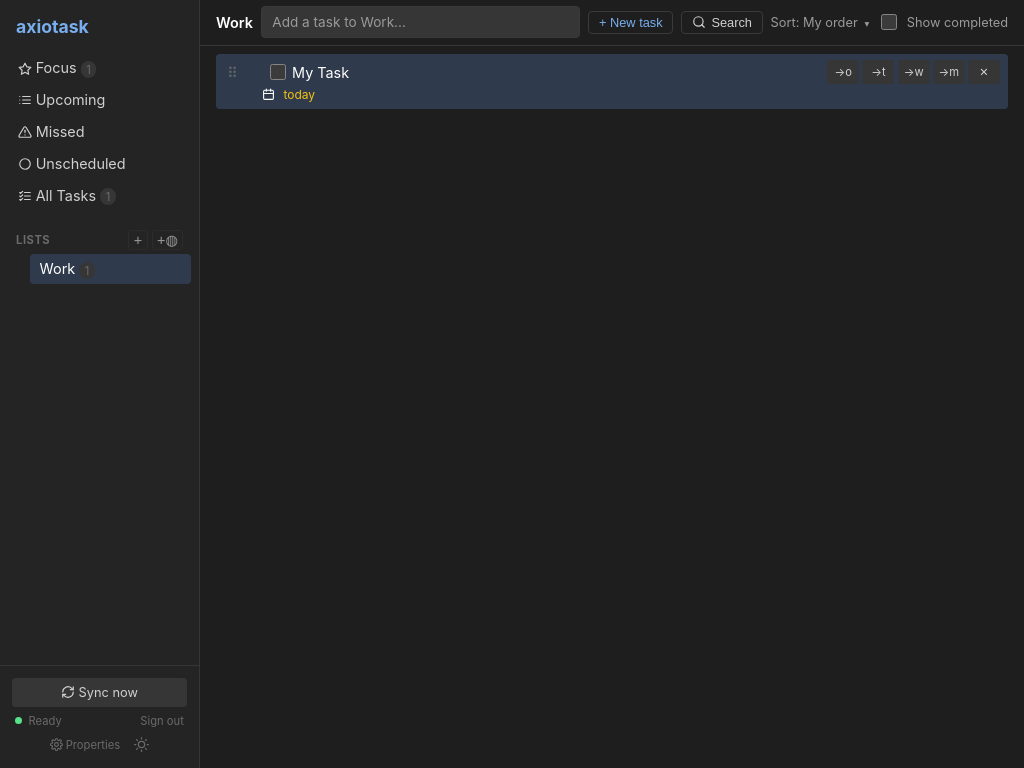
Test: GH#23: Error feedback toast › shows dismiss button that removes error toast on click
expect the text "My Task" is shown: met, box [292, 64, 349, 81]
Press Space
Wait 100 ms
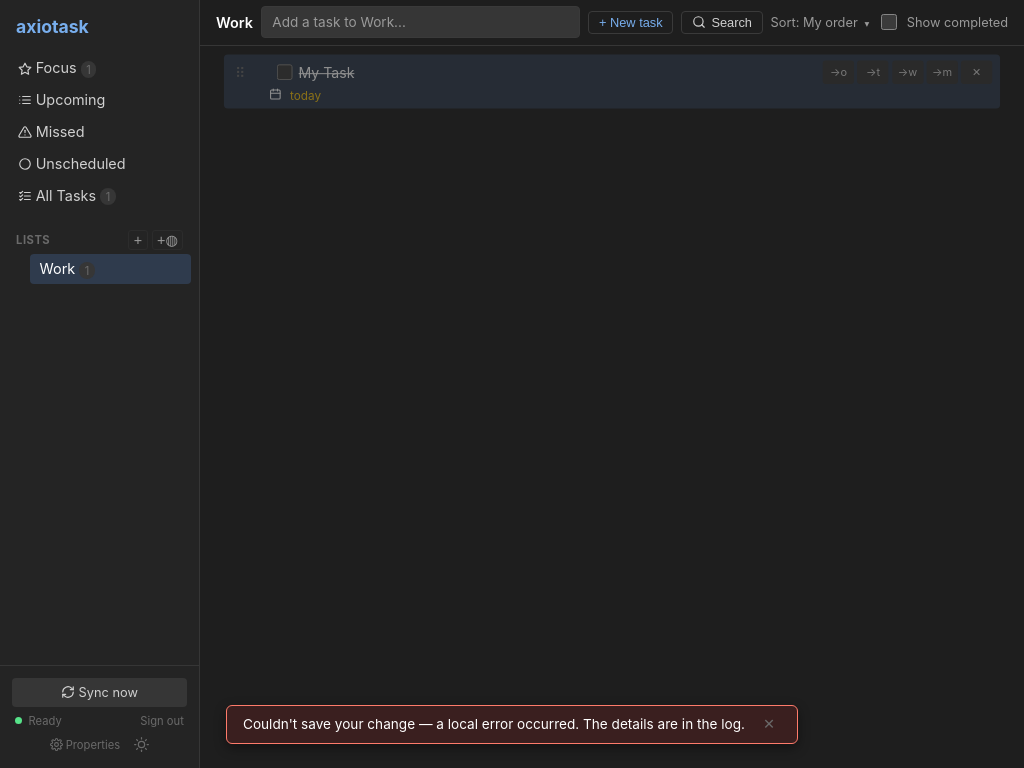
expect the message is shown: met, box [226, 705, 798, 744]
expect the button with class "dismiss-btn" is shown: met
Click the button with class "dismiss-btn". click: [769, 724]
box: [757, 715, 781, 733]
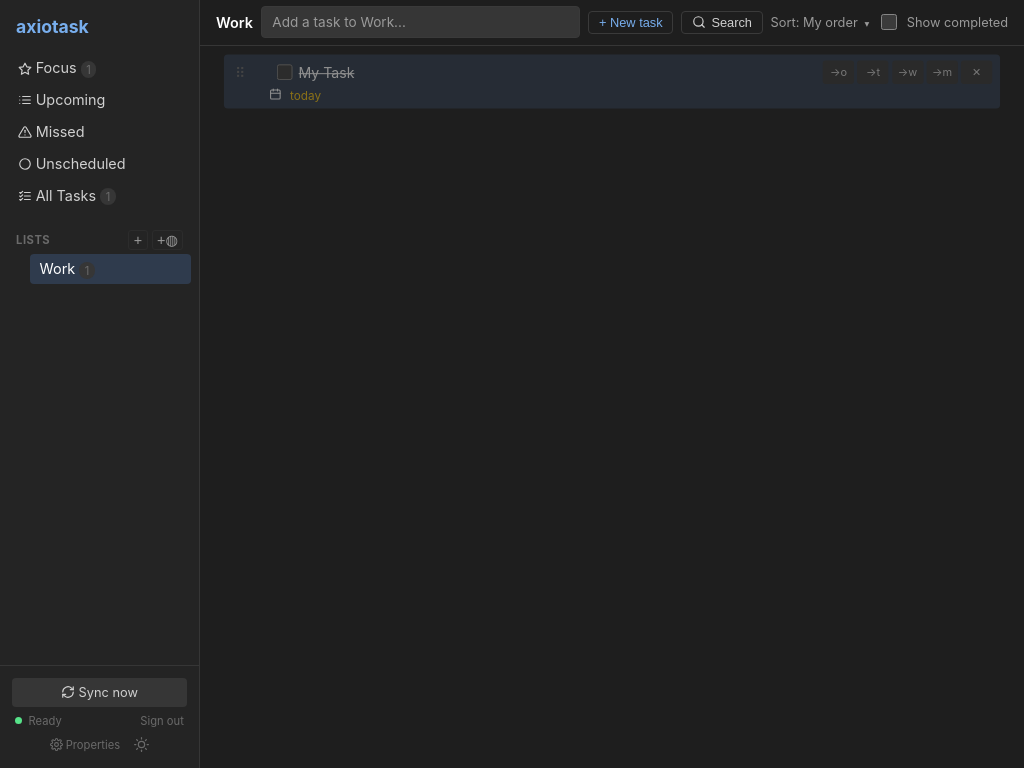
expect the message "Couldn't save your change — a local error occurred. The details are in the log." is gone: met
